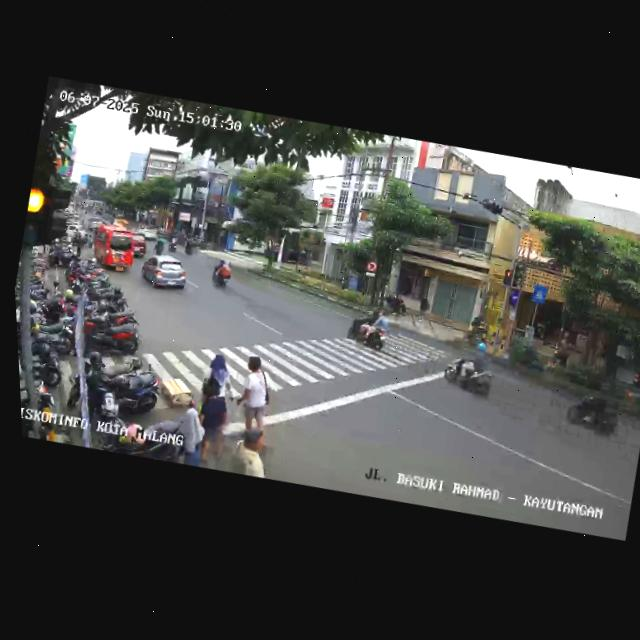car: (87, 221, 140, 276), (135, 250, 191, 298)
motorcycle: (558, 377, 633, 445), (438, 341, 501, 403), (343, 302, 393, 354), (209, 257, 237, 292)
person: (221, 400, 281, 478), (188, 383, 236, 466), (231, 357, 278, 434), (168, 402, 213, 468), (196, 350, 243, 408)
